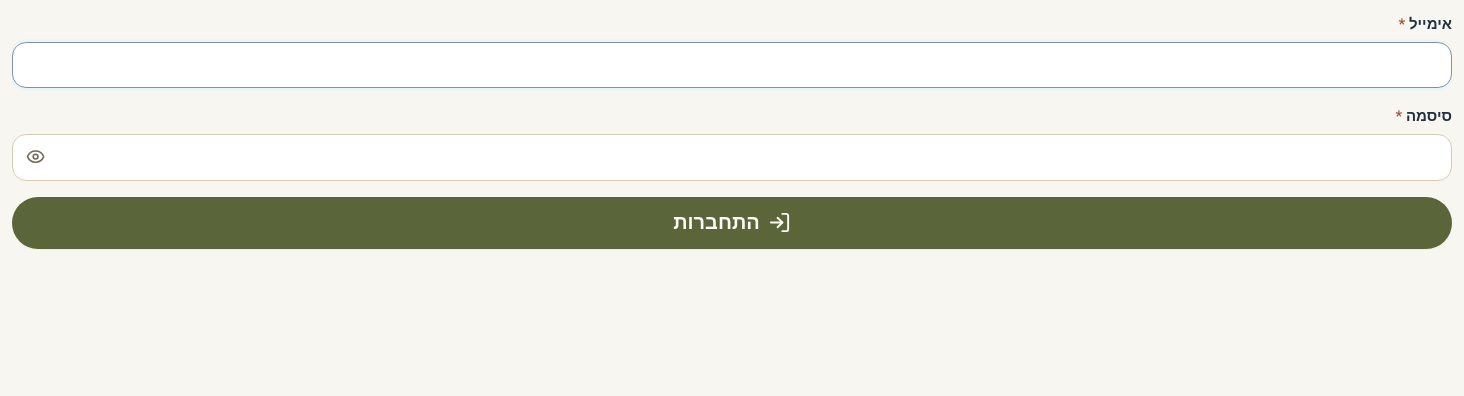
Test: LoginForm › shows one clear message for a wrong email or password, and keeps the typed email
Step 1. Type "customer1@tourshuttle.demo" into the field labelled "אימייל *" → (732, 65), box top-left (12, 42), bottom-right (1452, 88)
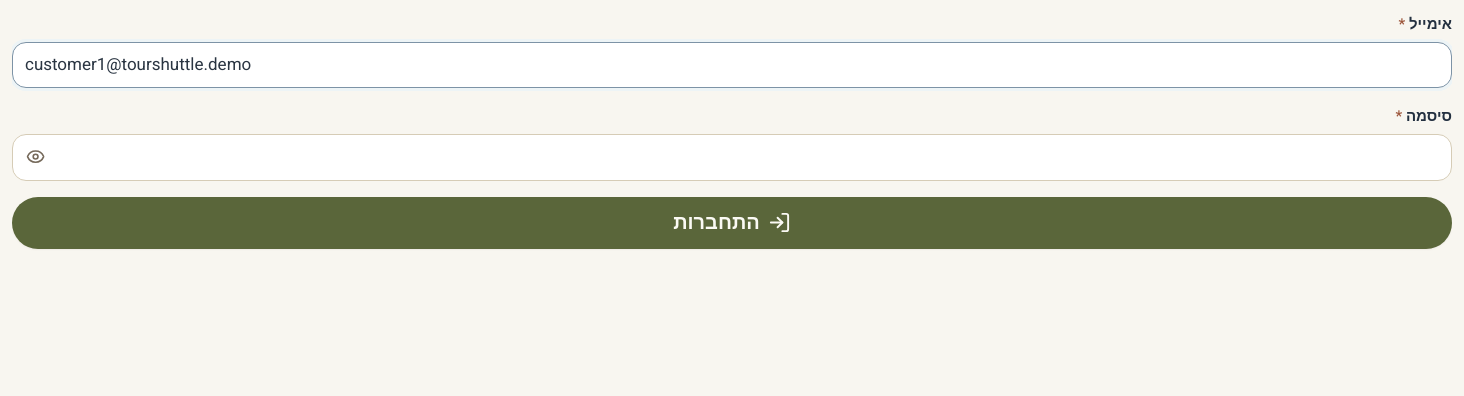
Step 2. Type "wrong-password" into the password field labelled "סיסמה *" → (732, 157), box top-left (12, 134), bottom-right (1452, 181)
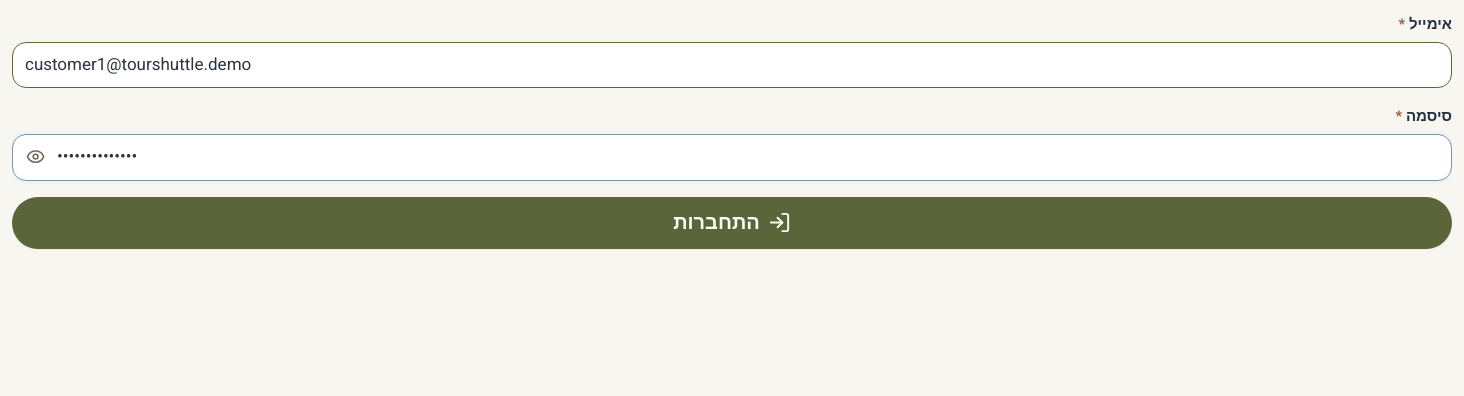
Step 3. Click the button "התחברות" → (732, 223), box top-left (12, 197), bottom-right (1452, 249)
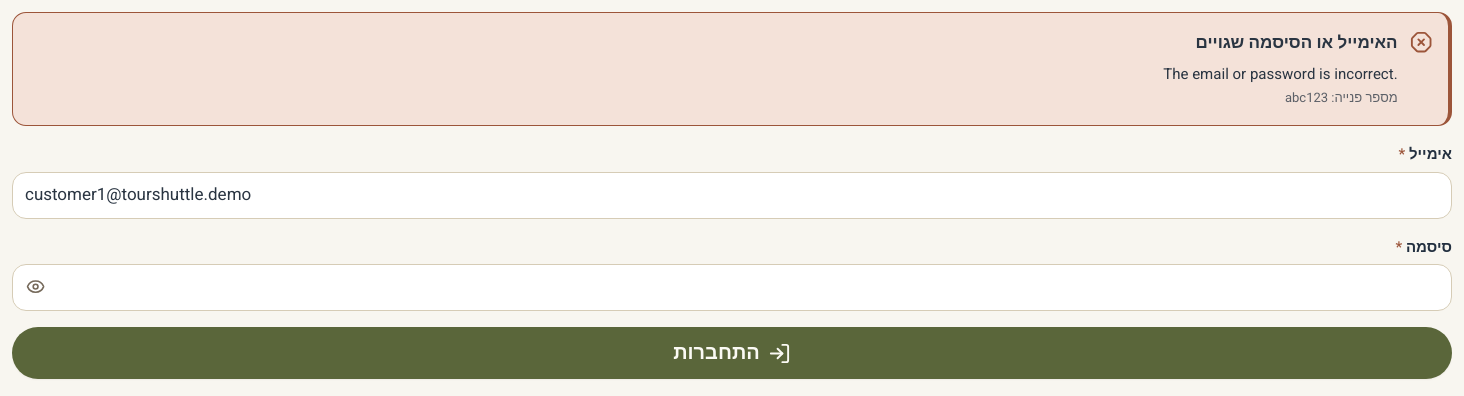
Result: the text "האימייל או הסיסמה שגויים" is shown at top-left (1163, 29), bottom-right (1398, 58)
Result: the text "abc123" is shown at top-left (1285, 88), bottom-right (1328, 107)
